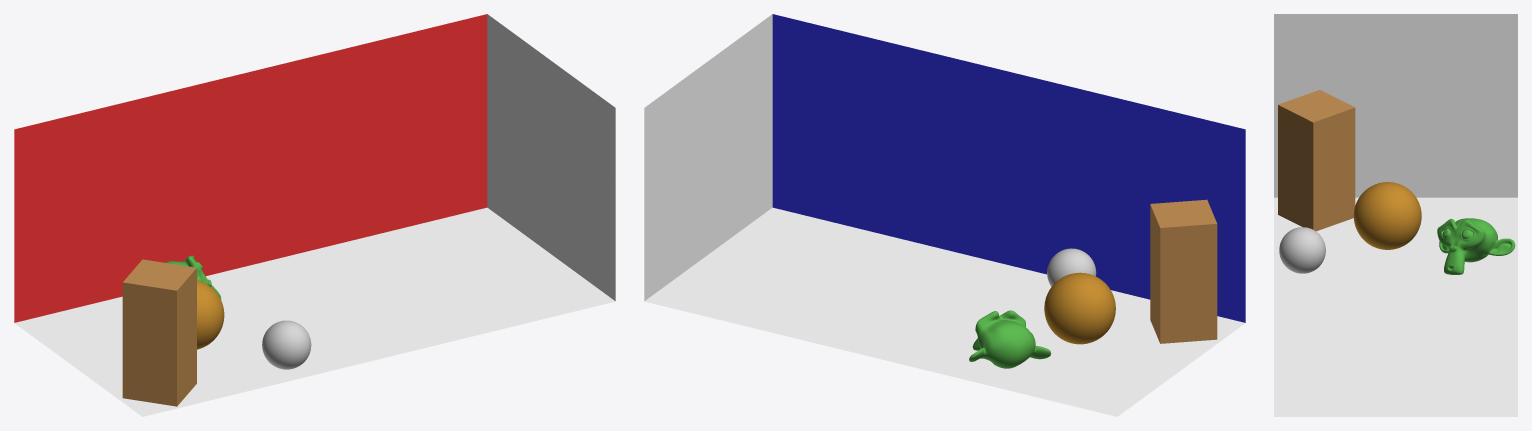
File: cornellbox.gltf
3 views of the same model, side by side, from view 1: azimuth 30°, elevation 25°; view 2: azimuth 150°, elevation 25°; view 3: azimuth 270°, elevation 25° (orthographic). The views are drawn at different scales.
Visible parts, largest first — view 1: Room, Cube, Sphere, Clearcoat; view 2: Room, Cube, Clearcoat, Suzanne, Sphere; view 3: Room, Cube, Clearcoat, Suzanne, Sphere.
Boxes of the visible parts, <box> form: Room: <box>14,14,615,416</box>; Cube: <box>122,259,196,406</box>; Sphere: <box>262,320,311,369</box>; Clearcoat: <box>197,280,224,349</box>; Room: <box>644,14,1245,416</box>; Cube: <box>1150,199,1217,343</box>; Clearcoat: <box>1044,272,1115,344</box>; Suzanne: <box>969,310,1051,368</box>; Sphere: <box>1047,248,1096,286</box>; Room: <box>1274,14,1517,416</box>; Cube: <box>1278,90,1355,231</box>; Clearcoat: <box>1353,182,1421,249</box>; Suzanne: <box>1437,218,1515,274</box>; Sphere: <box>1279,227,1325,273</box>.
Bounding box in the file's own units: 5.12 × 2 × 2.4.
